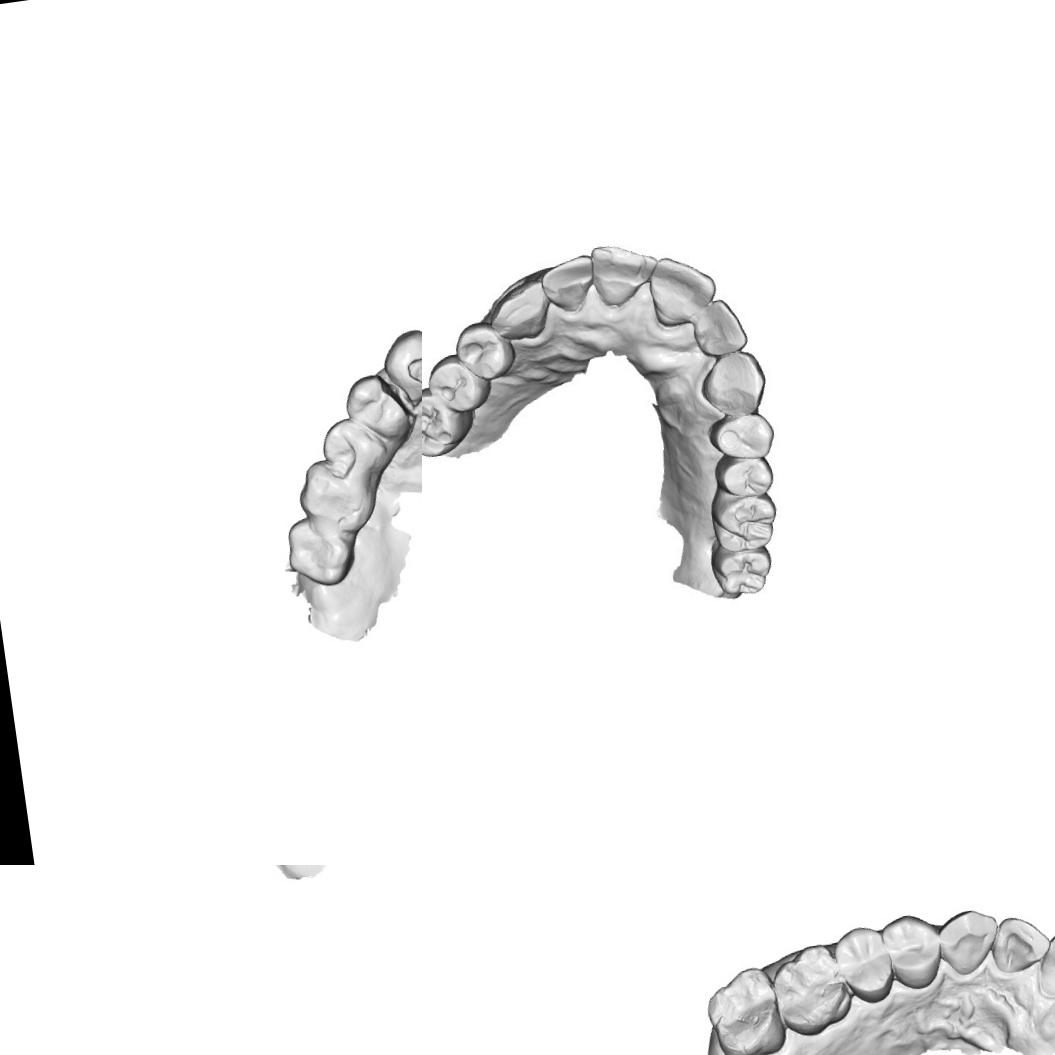canine: (933, 899, 1003, 983), (696, 348, 765, 419), (490, 282, 557, 342), (374, 324, 422, 407)
incisor: (645, 249, 722, 325), (588, 237, 660, 310), (986, 912, 1052, 979), (694, 297, 754, 358), (541, 256, 598, 310), (1029, 920, 1055, 1004)
molar: (766, 938, 860, 1042), (699, 963, 792, 1055), (293, 452, 381, 542), (280, 510, 361, 594), (712, 494, 778, 554), (712, 544, 774, 602), (422, 386, 466, 454)
premolar: (340, 368, 416, 448), (832, 921, 899, 1011), (878, 908, 946, 996), (316, 412, 394, 485), (704, 406, 778, 464), (428, 353, 490, 416), (457, 321, 514, 382), (714, 454, 775, 502)
